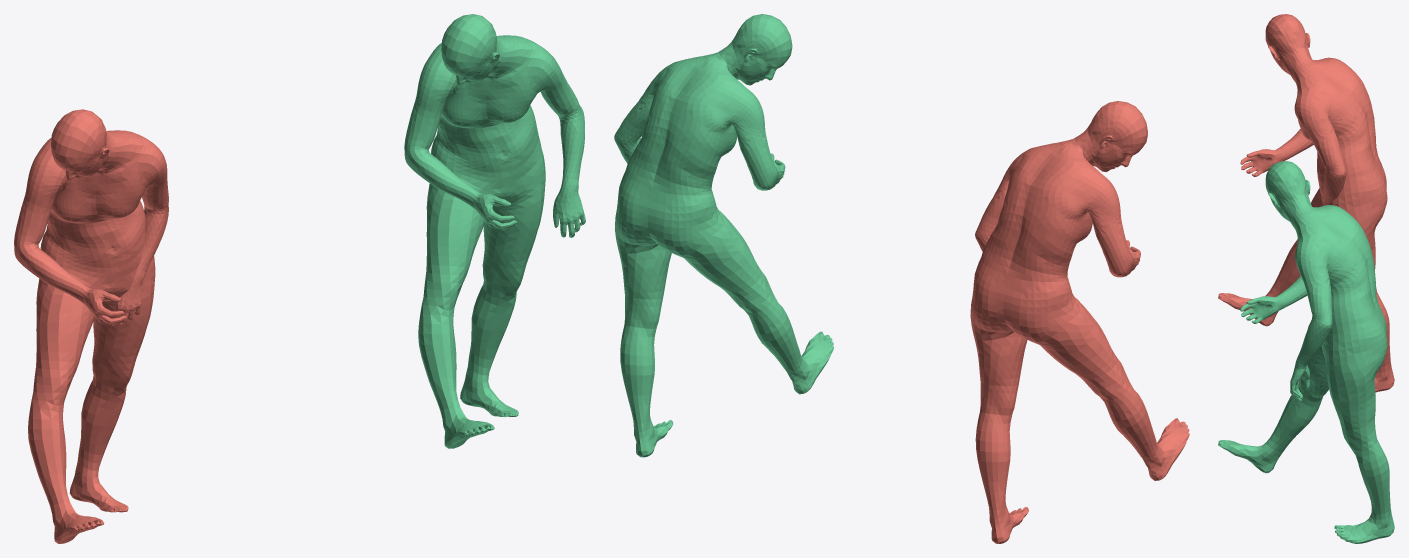
The model's file is pose_021_before_after.glb.
3 renders of one model, left to right at view 1: azimuth 30°, elevation 25°; view 2: azimuth 150°, elevation 25°; view 3: azimuth 270°, elevation 25°, orthographic. The views are drawn at different scales.
Visible parts, largest first — view 1: poseshield_green, input_red; view 2: poseshield_green, input_red; view 3: poseshield_green, input_red.
Boxes of the visible parts, left/top/right/bottom form: poseshield_green: left=404, top=14, right=585, bottom=448; input_red: left=14, top=109, right=168, bottom=543; poseshield_green: left=614, top=14, right=833, bottom=457; input_red: left=970, top=101, right=1189, bottom=543; poseshield_green: left=1218, top=161, right=1394, bottom=543; input_red: left=1218, top=14, right=1394, bottom=392.
Size of what is drawn, in the model's own units: 2.06 by 1.56 by 0.7175.
